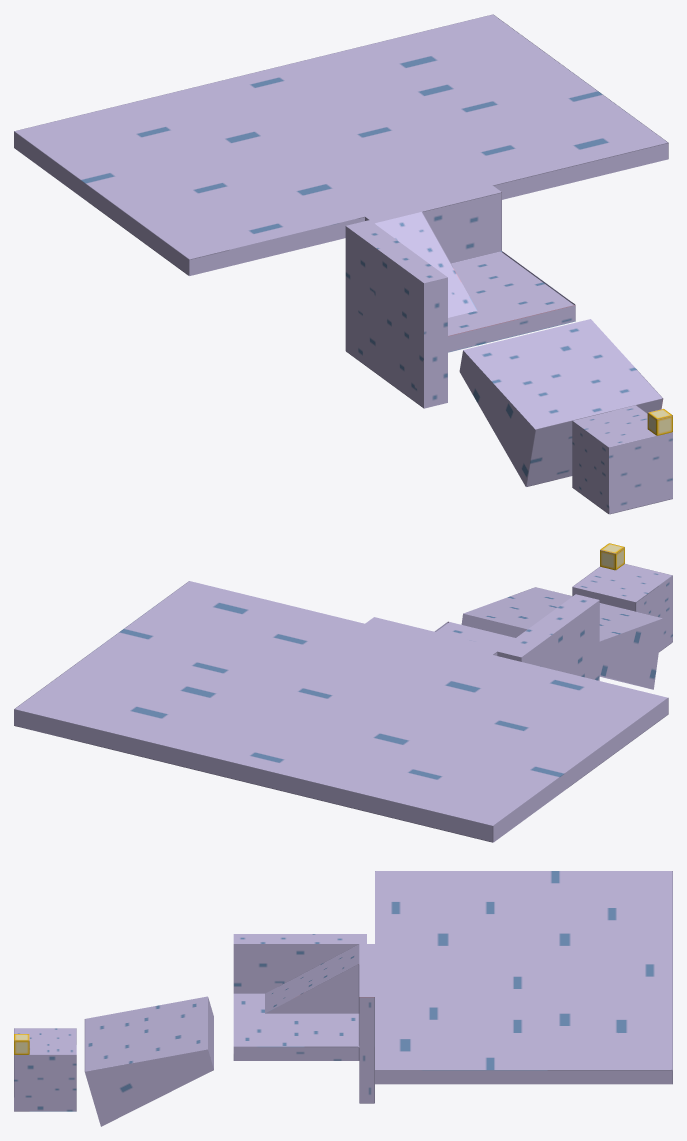
File: testmap.obj
3 views of the same model, one above another, from view 1: azimuth 30°, elevation 25°; view 2: azimuth 150°, elevation 25°; view 3: azimuth 270°, elevation 25° (orthographic). The views are drawn at different scales.
Visible parts, largest first — view 1: bigfloor, bigramp, wall2, start, floor, wall, ramp; view 2: bigfloor, bigramp, wall2, start, wall, floor, prop; view 3: bigfloor, bigramp, floor, wall2, start, ramp, wall.
Part boxes in pixels (<box>): bigfloor: <box>14,14,668,275</box>; bigramp: <box>459,319,663,487</box>; wall2: <box>345,220,447,408</box>; start: <box>572,405,672,514</box>; floor: <box>448,251,575,352</box>; wall: <box>365,185,501,262</box>; ramp: <box>374,212,477,317</box>; bigfloor: <box>14,581,668,842</box>; bigramp: <box>461,587,663,689</box>; wall2: <box>497,594,599,680</box>; start: <box>572,564,672,652</box>; wall: <box>365,617,501,655</box>; floor: <box>434,621,515,647</box>; prop: <box>600,543,624,570</box>; bigfloor: <box>375,871,672,1084</box>; bigramp: <box>84,996,213,1126</box>; floor: <box>233,993,359,1060</box>; wall2: <box>233,934,366,993</box>; start: <box>14,1028,76,1111</box>; ramp: <box>265,944,359,1013</box>; wall: <box>359,944,374,1103</box>.
Bounding box in the file's own units: 3.75 × 1.14 × 5.25.
1 material, 1 textured.
